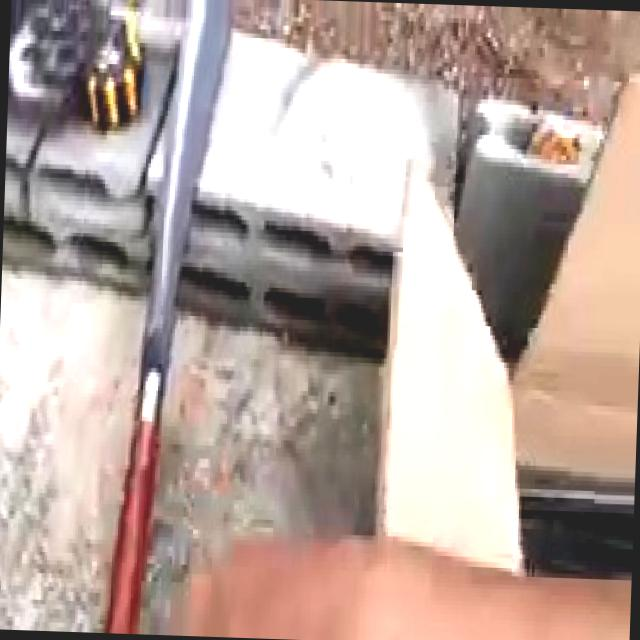eto: (107, 0, 227, 628)
